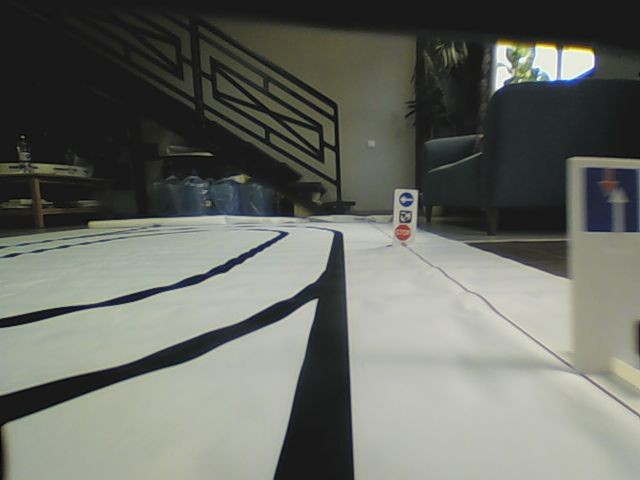Stop: (395, 225, 411, 239)
priority_movement: (581, 163, 640, 235)
